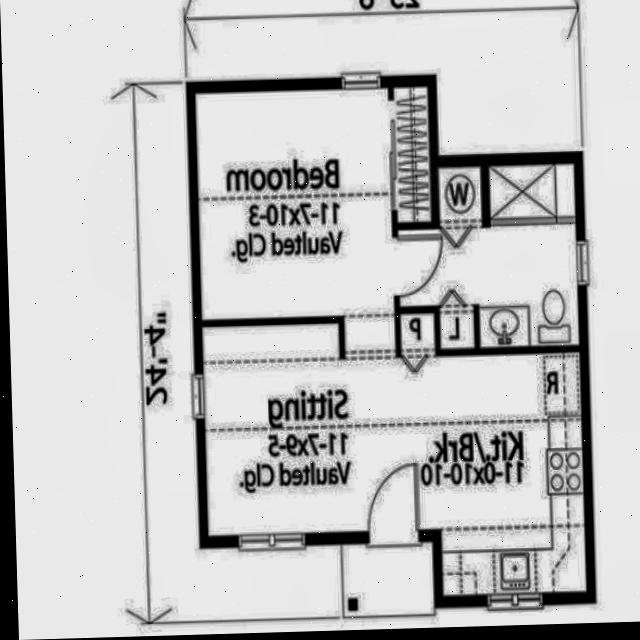room: (202, 313, 587, 601), (194, 86, 435, 320), (396, 162, 579, 349), (439, 306, 475, 350), (400, 313, 436, 354)
